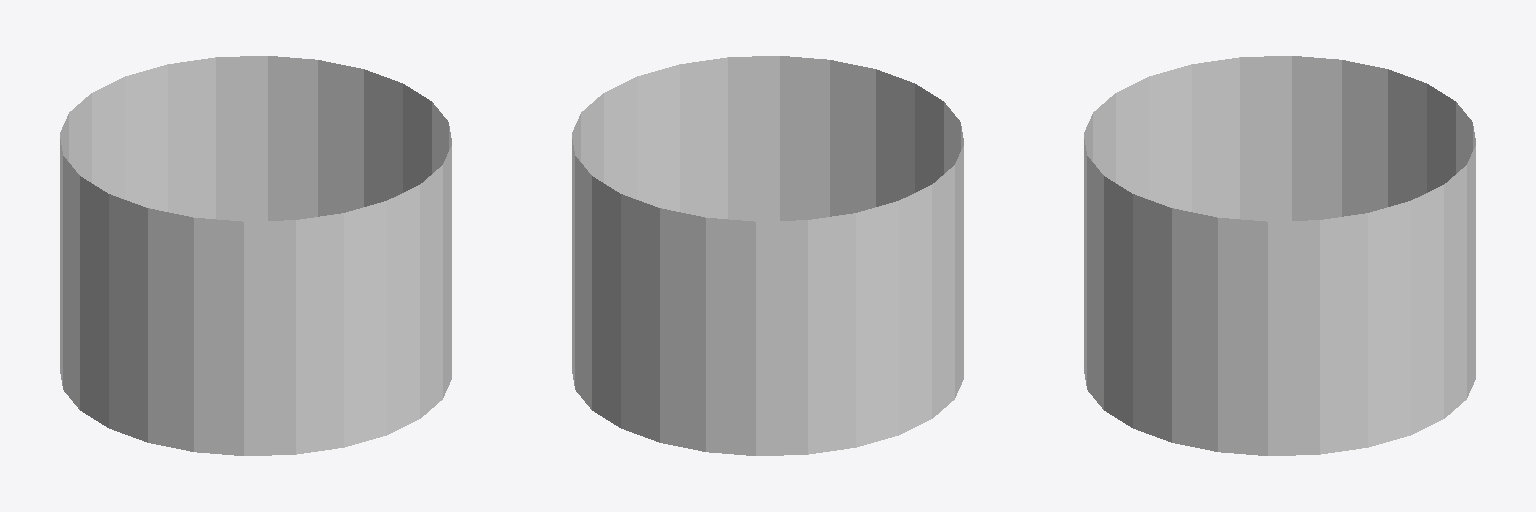
Rendered from original-8.obj.
3 renders of one model, left to right at view 1: azimuth 30°, elevation 25°; view 2: azimuth 150°, elevation 25°; view 3: azimuth 270°, elevation 25°, orthographic.
Visible parts, largest first — view 1: ETIQUETA1/ETIQUETA/mesh652/mesh652-geometry#mesh652-geometry; view 2: ETIQUETA1/ETIQUETA/mesh652/mesh652-geometry#mesh652-geometry; view 3: ETIQUETA1/ETIQUETA/mesh652/mesh652-geometry#mesh652-geometry.
Boxes of the visible parts, x1,y1,x2,y2 form: ETIQUETA1/ETIQUETA/mesh652/mesh652-geometry#mesh652-geometry: [60, 56, 451, 455]; ETIQUETA1/ETIQUETA/mesh652/mesh652-geometry#mesh652-geometry: [572, 56, 963, 455]; ETIQUETA1/ETIQUETA/mesh652/mesh652-geometry#mesh652-geometry: [1084, 56, 1475, 455].
Bounding box in the file's own units: 0.4421 × 0.2914 × 0.4421.